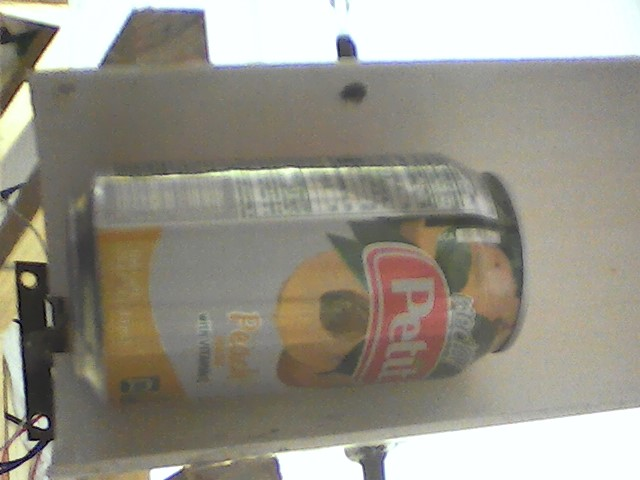lata: (66, 151, 533, 405)
